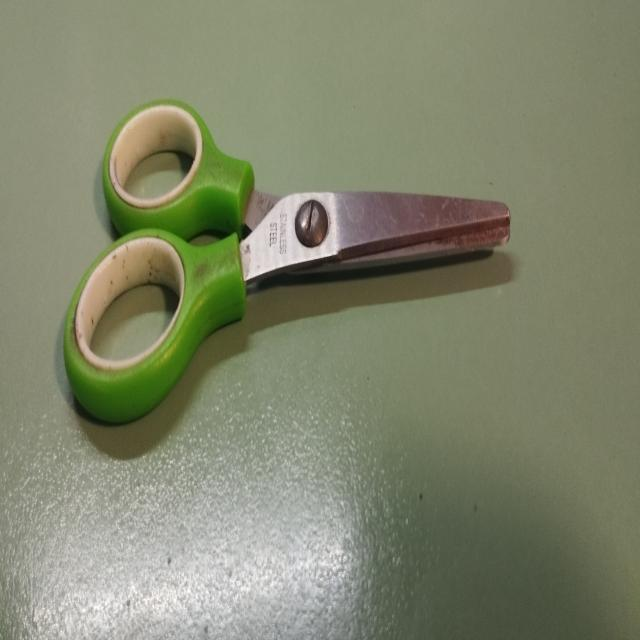tesoura: (58, 91, 516, 437)
